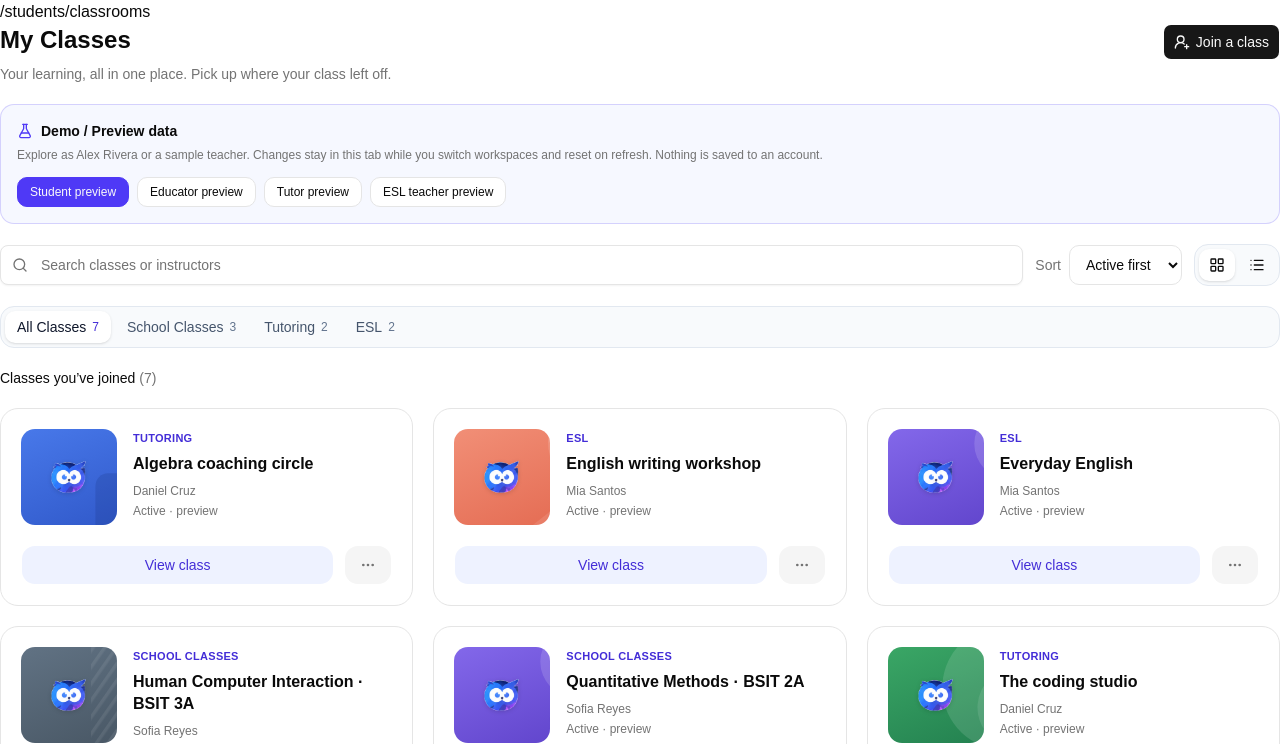
Scenario: shared classroom preview › enrolls the student in the same ESL record and exposes it in the ESL filter
Step 1. Click the button "Join a class" → (1221,42), box [1163, 24, 1279, 60]
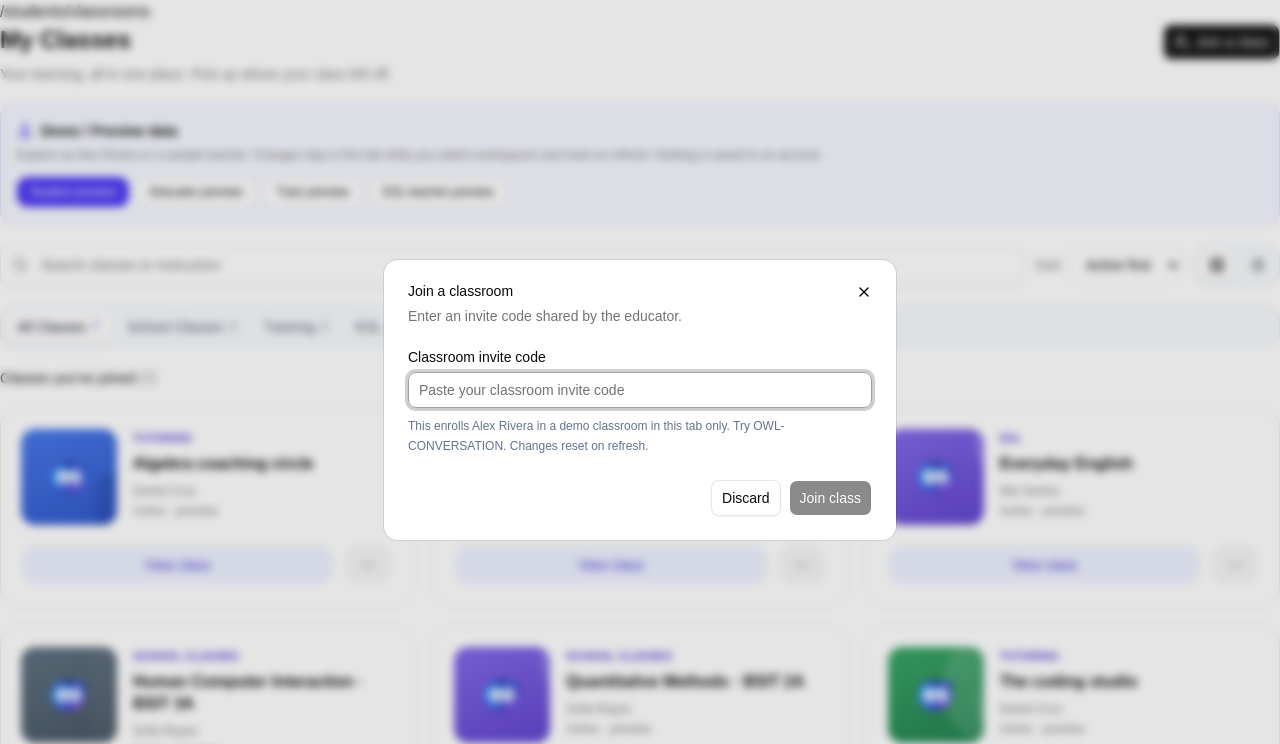
Step 2. Type "owl-conversation" into the field labelled "Classroom invite code" → (640,390), box [408, 372, 872, 408]
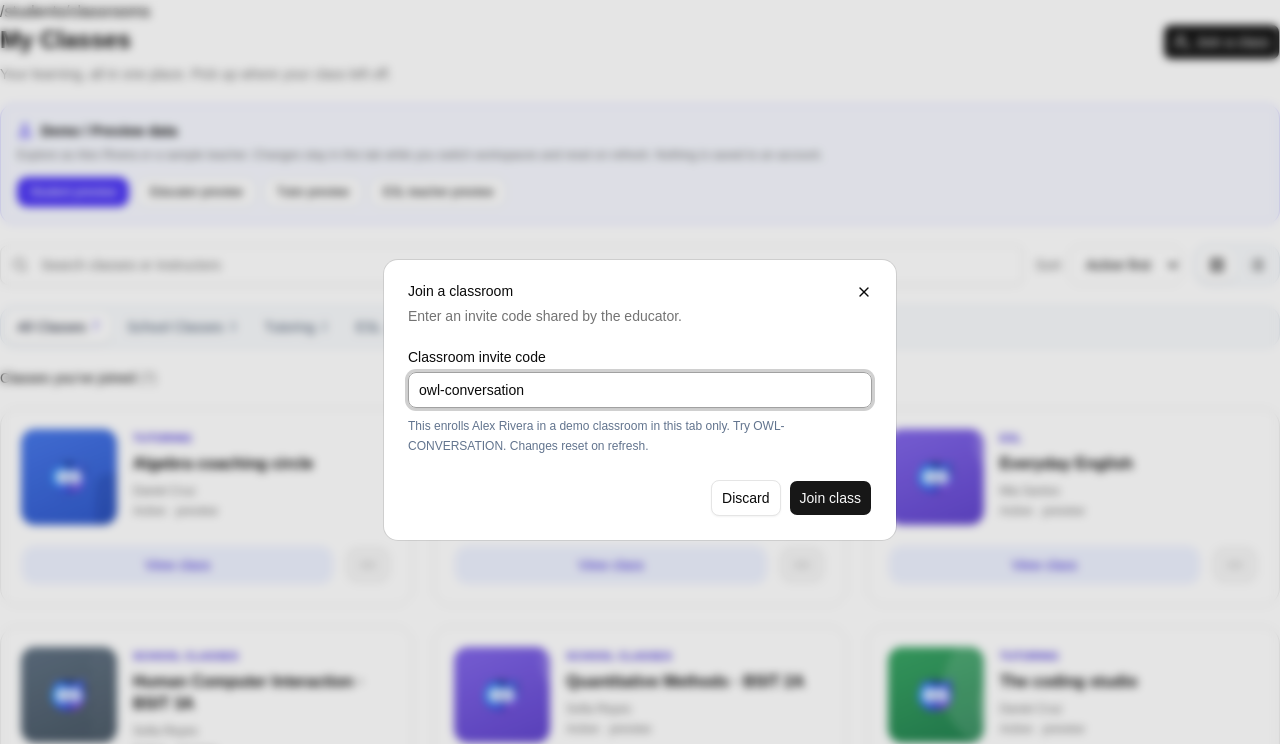
Step 3. Click the button "Join class" → (830,498), box [788, 480, 872, 516]
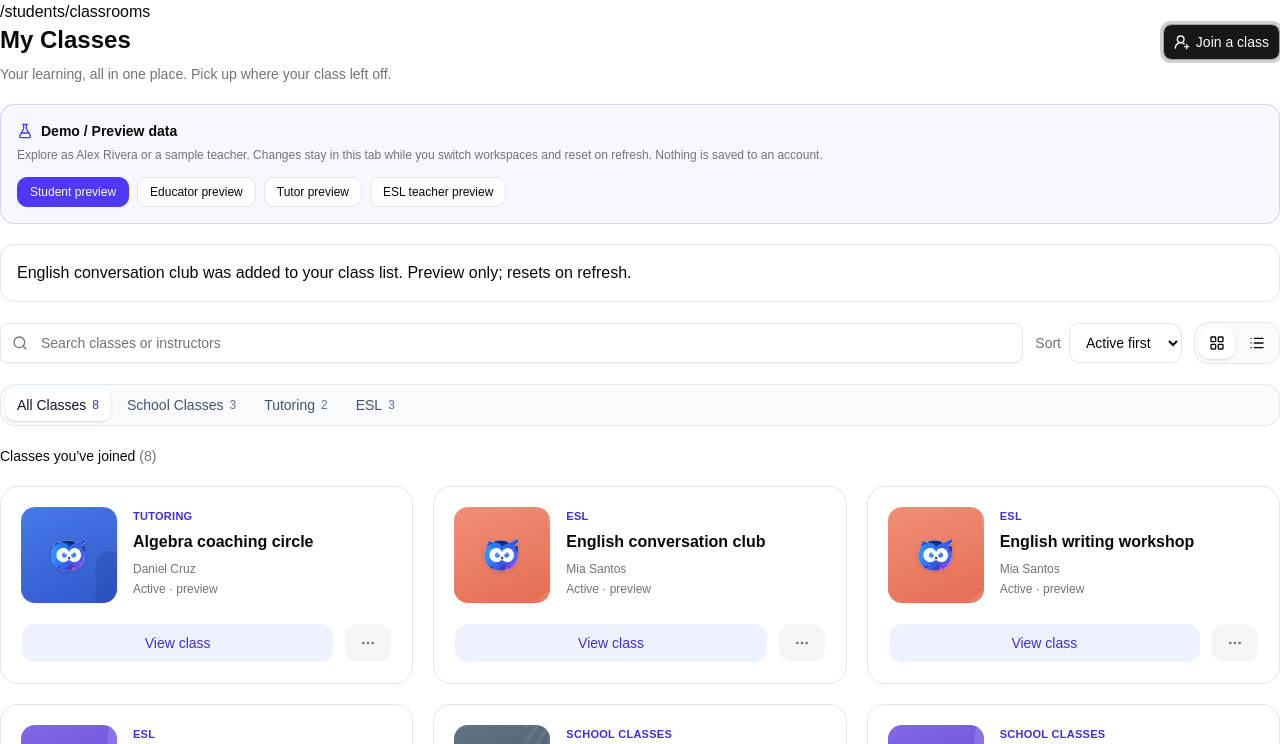
Expected: the link "English conversation club" is shown, [566, 533, 766, 550]
Step 4. Click the button "ESL 3" → (375,405), box [344, 389, 407, 421]
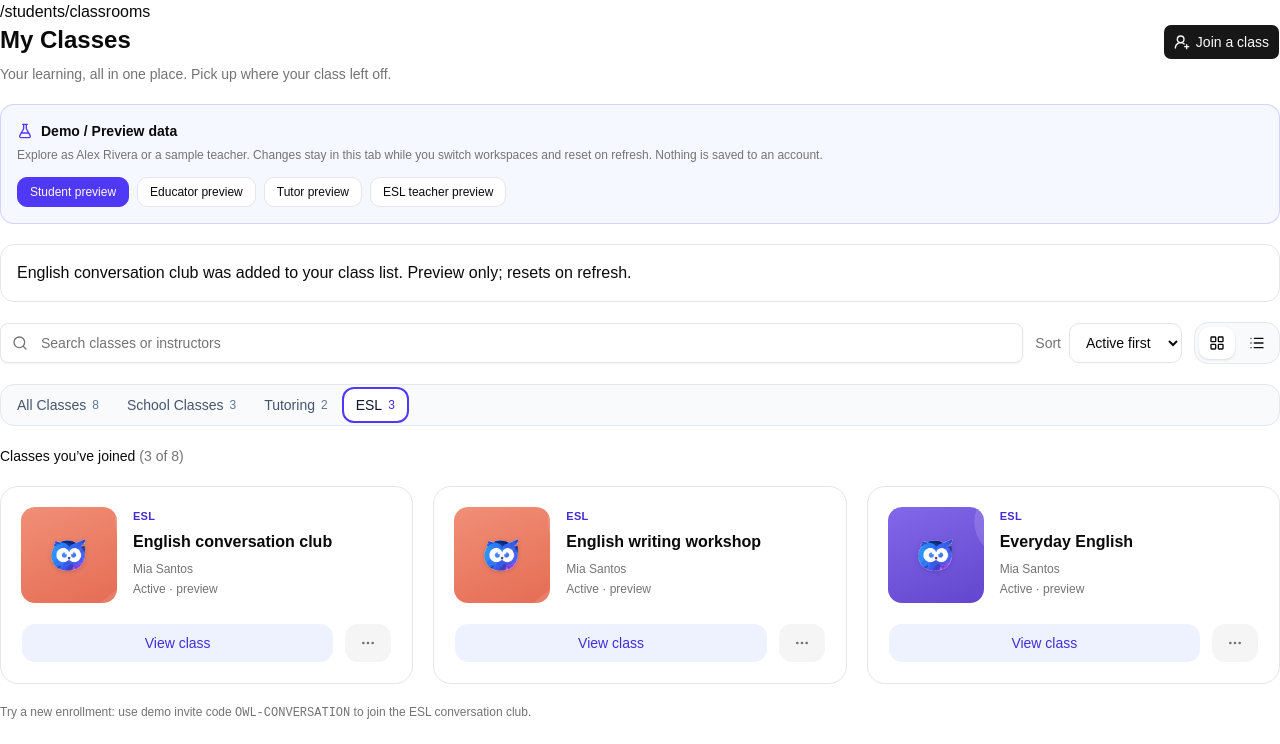
Expected: the number of links "View class " is 3, [21, 623, 334, 663]; [454, 623, 768, 663]; [888, 623, 1201, 663]
